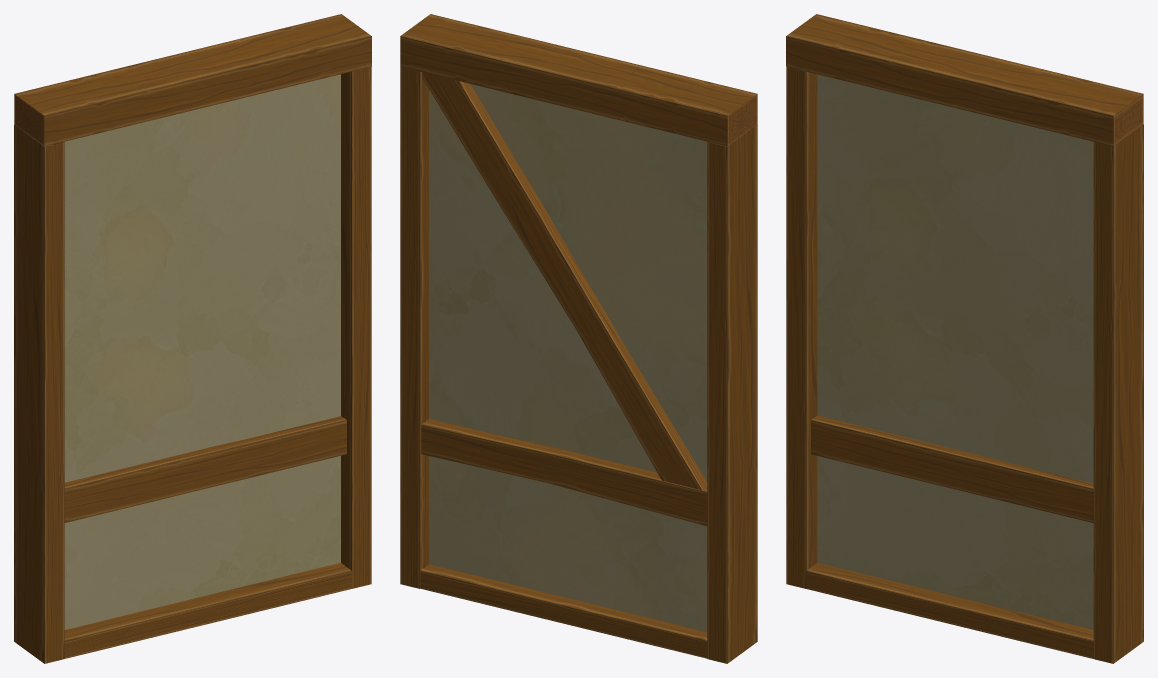
Rendered from SM_House_Wall_2_5x4_01.fbx.
3 views of the same model, side by side, from view 1: azimuth 30°, elevation 25°; view 2: azimuth 150°, elevation 25°; view 3: azimuth 330°, elevation 25° (orthographic).
Parts seen in each view (by area): view 1: SM_House_Wall_2_5x4_01; view 2: SM_House_Wall_2_5x4_01; view 3: SM_House_Wall_2_5x4_01.
Part boxes in pixels (box(x1,y1,x2,y2)): SM_House_Wall_2_5x4_01: box(14, 14, 371, 663); SM_House_Wall_2_5x4_01: box(400, 14, 757, 663); SM_House_Wall_2_5x4_01: box(786, 14, 1143, 663).
Size of the model in its own units: 2.5 by 4 by 0.4024.
